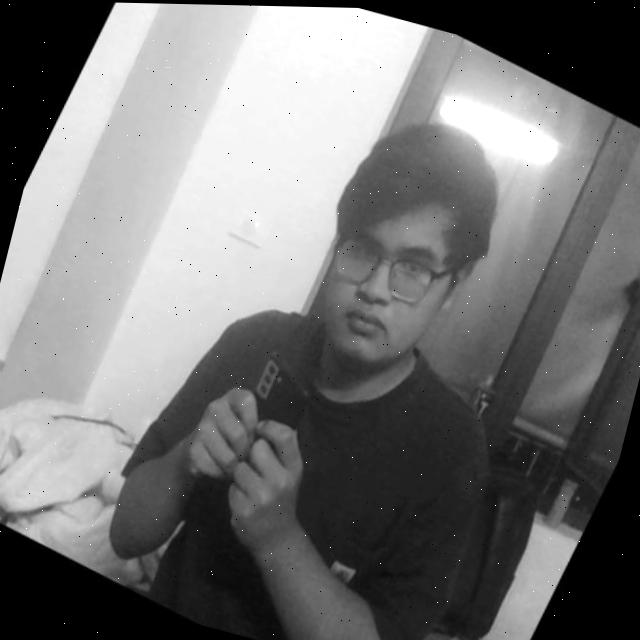phone: (175, 317, 344, 536)
